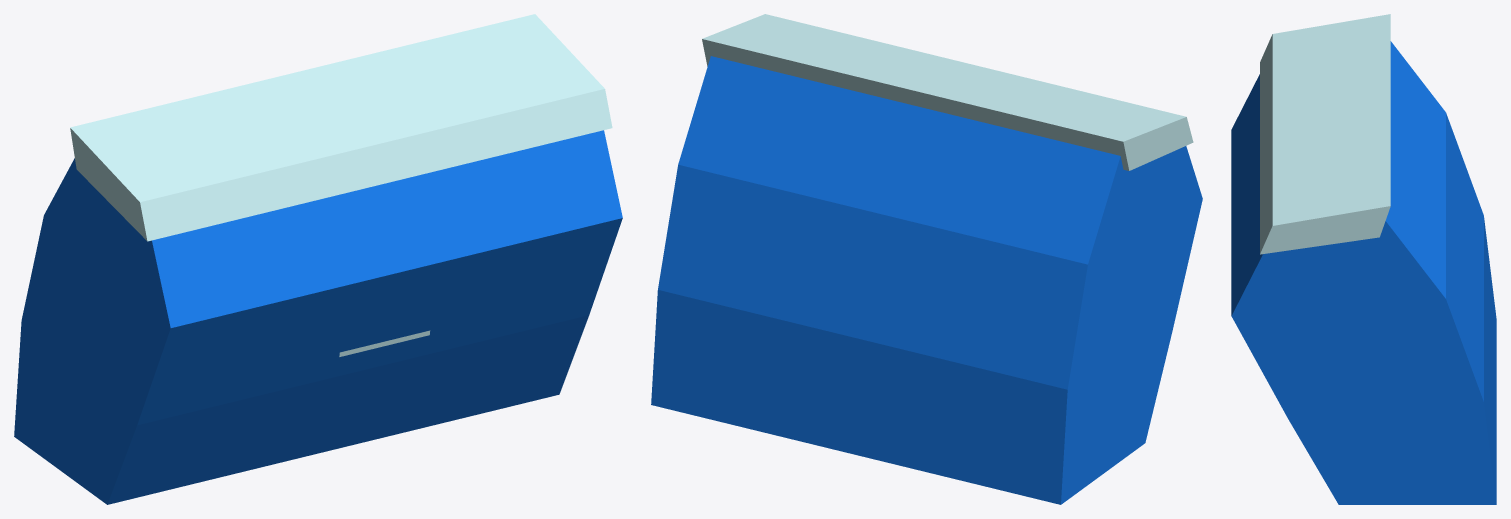
Rendered from spiritual_wave.obj.
The picture shows the model from 3 angles, left to right: view 1: azimuth 30°, elevation 25°; view 2: azimuth 150°, elevation 25°; view 3: azimuth 270°, elevation 25°; orthographic projection. The views are drawn at different scales.
Parts seen in each view (by area): view 1: CanglangWave, CanglangFoamCrest; view 2: CanglangWave, CanglangFoamCrest; view 3: CanglangWave, CanglangFoamCrest.
Boxes of the visible parts, x1,y1,x2,y2 form: CanglangWave: (14,130,622,504); CanglangFoamCrest: (70,14,612,241); CanglangWave: (651,56,1202,504); CanglangFoamCrest: (702,14,1193,170); CanglangWave: (1231,41,1496,504); CanglangFoamCrest: (1260,14,1390,254).
Size of the model in its own units: 1.44 by 1.05 by 0.84.
